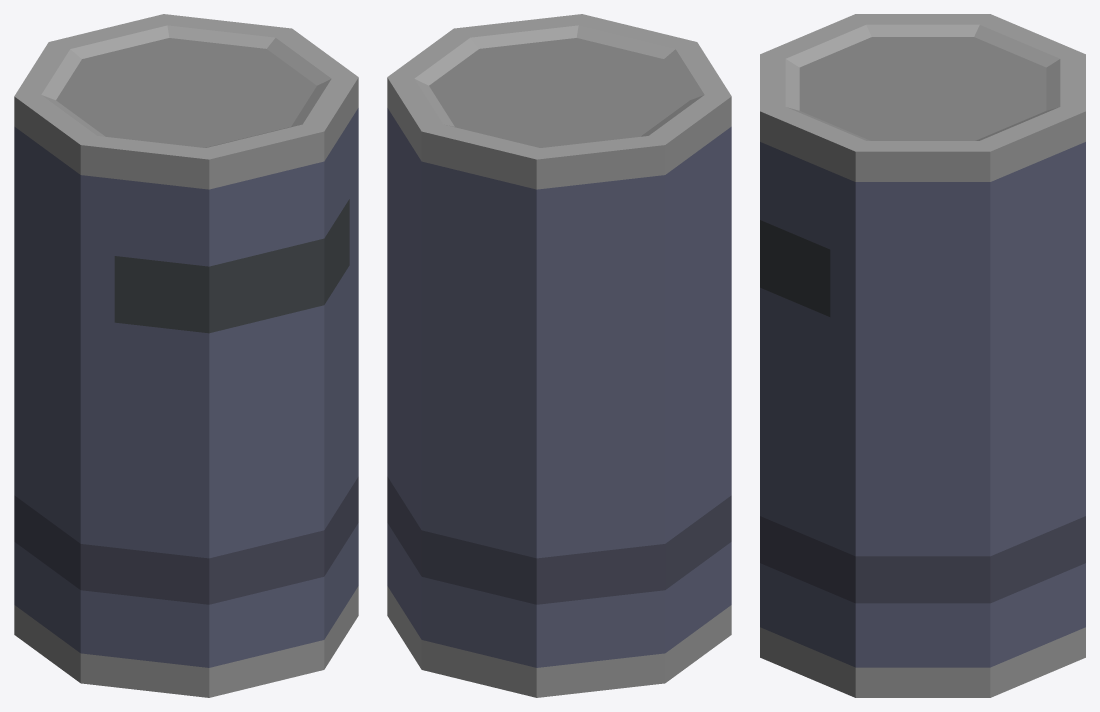
The model's file is SM_Food_CannedFood_02.fbx.
The picture shows the model from 3 angles, left to right: view 1: azimuth 30°, elevation 25°; view 2: azimuth 150°, elevation 25°; view 3: azimuth 270°, elevation 25°; orthographic projection.
Visible parts, largest first — view 1: SM_Food_CannedFood_02; view 2: SM_Food_CannedFood_02; view 3: SM_Food_CannedFood_02.
Part boxes in pixels (box(x1,y1,x2,y2)): SM_Food_CannedFood_02: box(14, 14, 358, 697); SM_Food_CannedFood_02: box(387, 14, 731, 697); SM_Food_CannedFood_02: box(760, 14, 1085, 697).
Size of the model in its own units: 0.0891 by 0.1649 by 0.0891.
